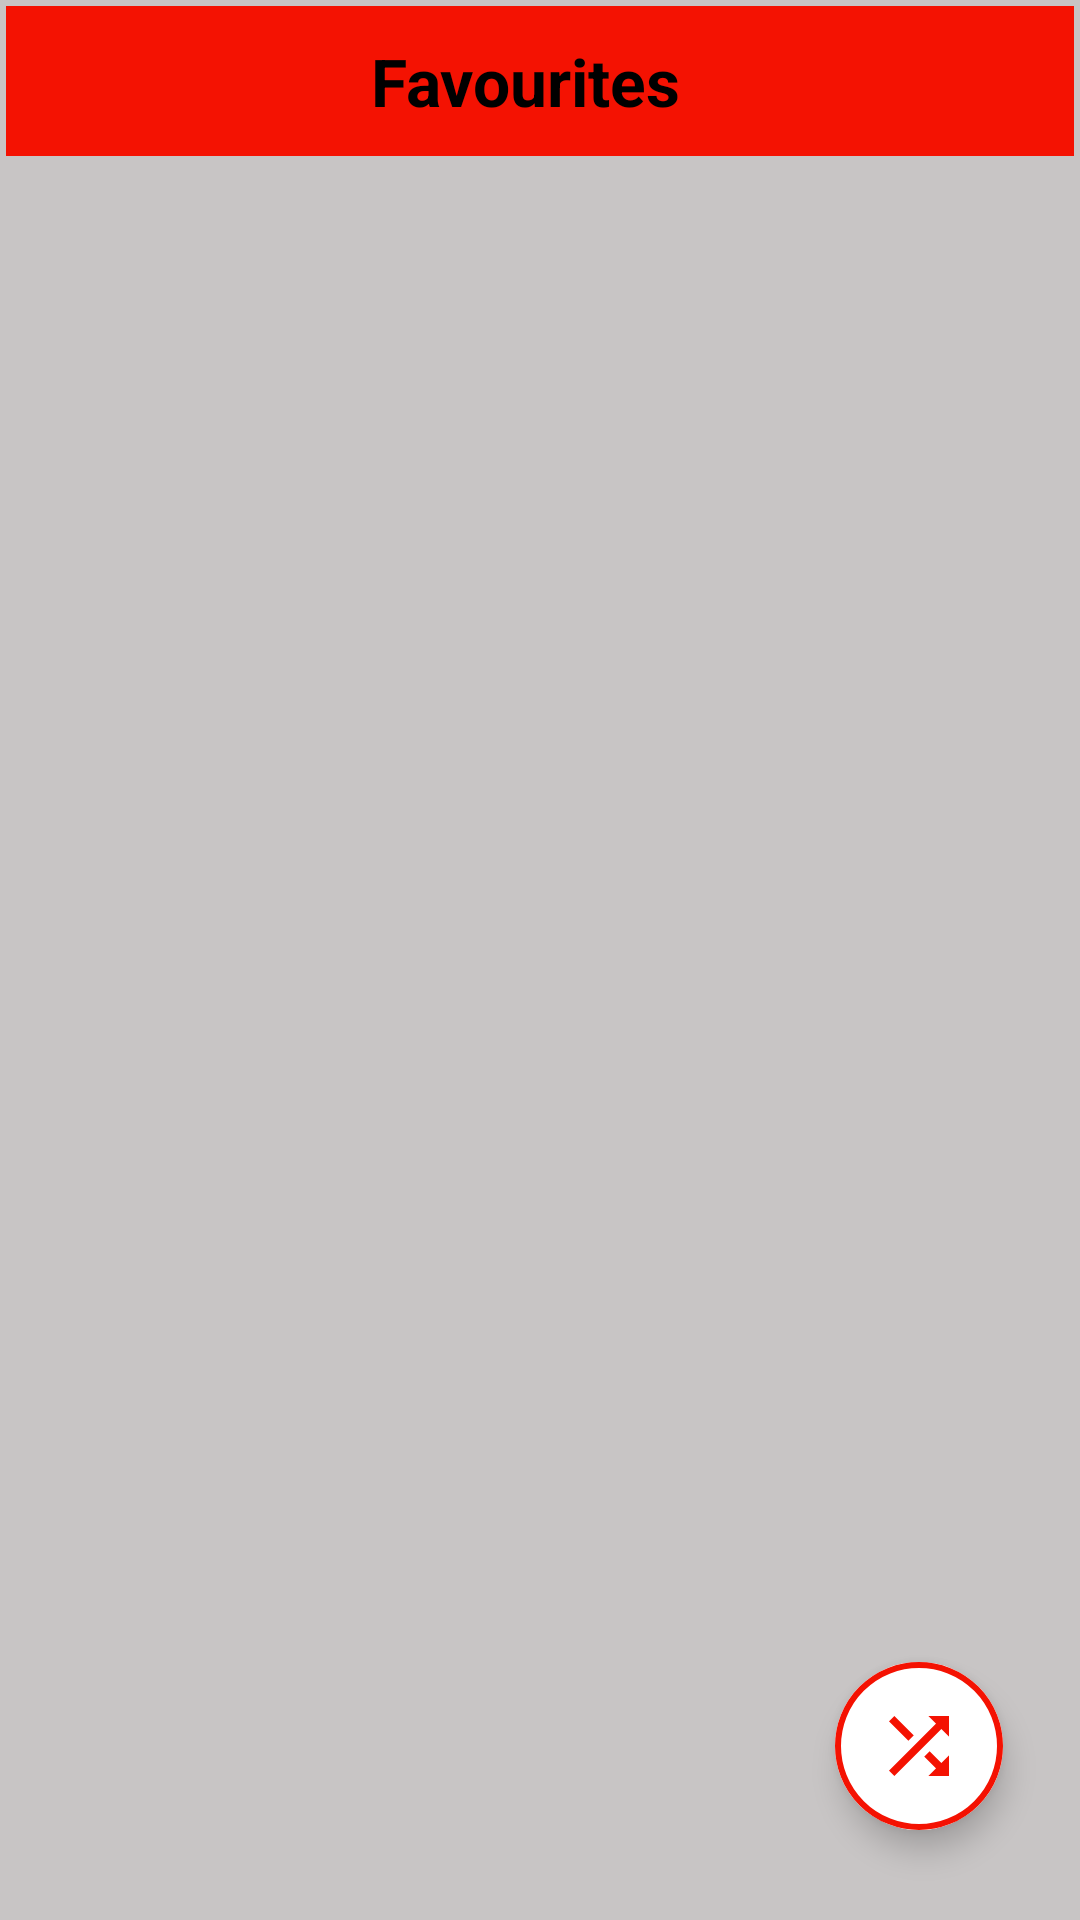

Where icons sit on this 1080 × 1920 app screen, as [x1=x1, y1=y1, x2=x2, y2=y2]:
shuffle: [x1=835, y1=1662, x2=1003, y2=1830]
